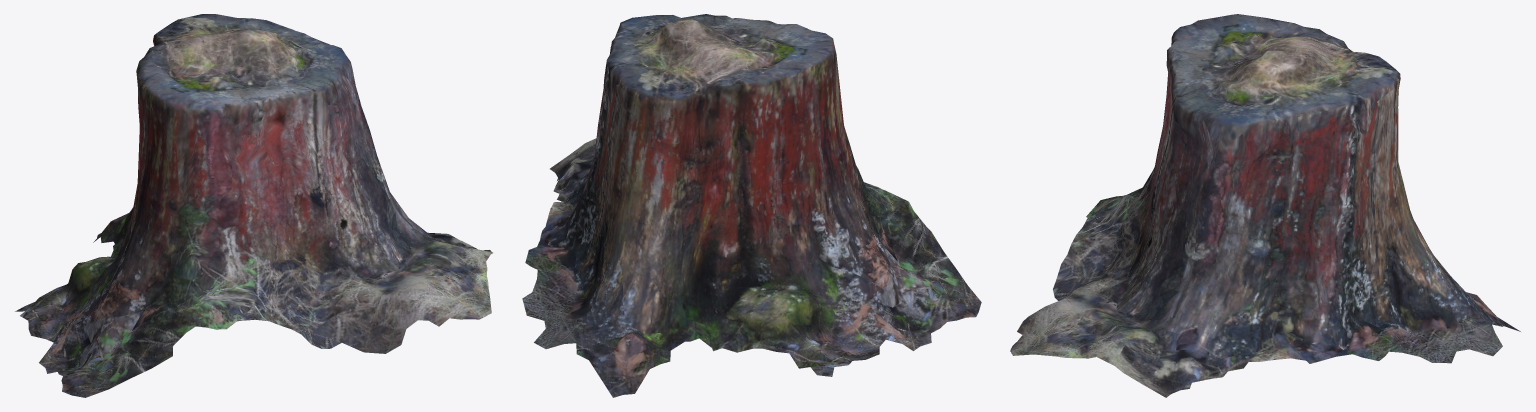
Rendered from tree-stump-red.dae.
3 views of the same model, side by side, from view 1: azimuth 30°, elevation 25°; view 2: azimuth 150°, elevation 25°; view 3: azimuth 270°, elevation 25° (orthographic). The views are drawn at different scales.
Parts seen in each view (by area): view 1: kand; view 2: kand; view 3: kand.
Part boxes in pixels (left/top/right/bottom): kand: left=15, top=14, right=492, bottom=397; kand: left=522, top=14, right=981, bottom=397; kand: left=1010, top=14, right=1520, bottom=397.
Size of the model in its own units: 4.29 by 4.15 by 2.69.
Materials: 1 (1 with a texture image).
